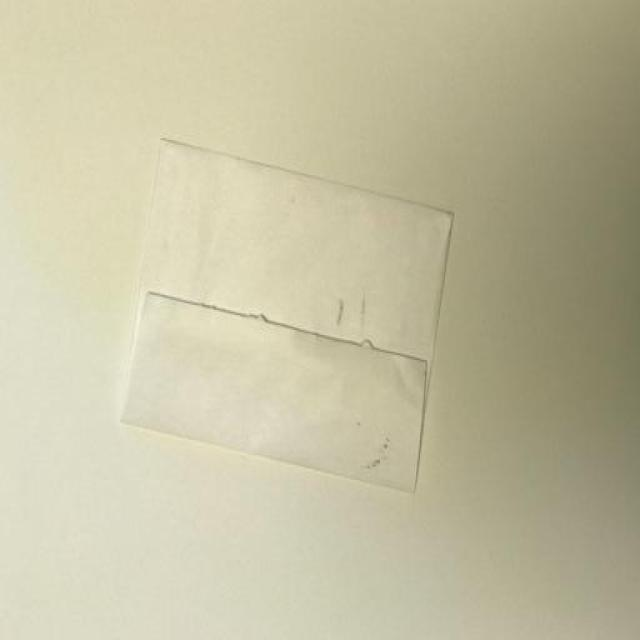paper: (119, 134, 454, 493)
